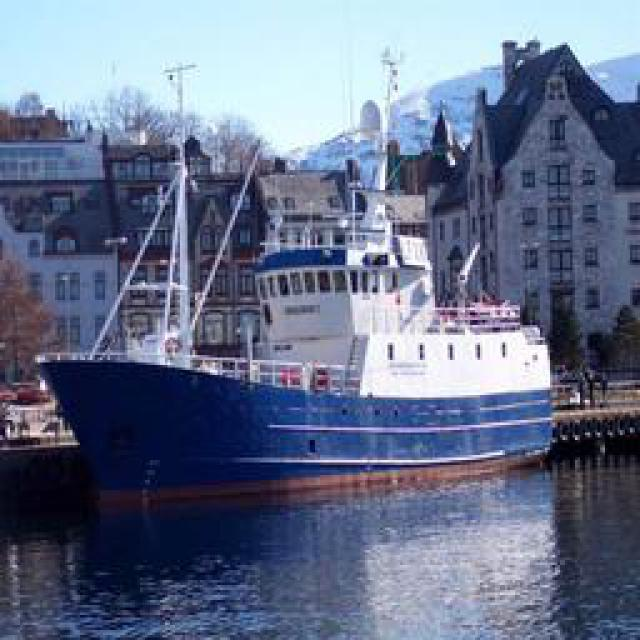Ship: (26, 68, 564, 483)
